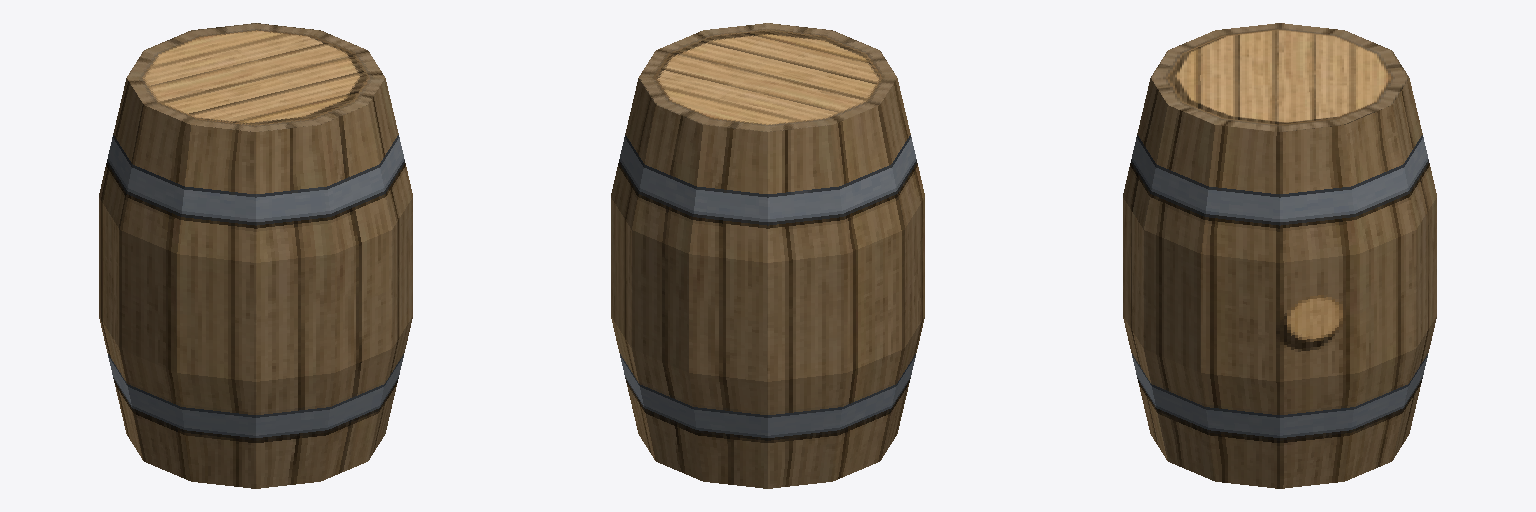
3 views of the same model, side by side, from view 1: azimuth 30°, elevation 25°; view 2: azimuth 150°, elevation 25°; view 3: azimuth 270°, elevation 25° (orthographic).
Parts seen in each view (by area): view 1: Default; view 2: Default; view 3: Default.
Boxes of the visible parts, <box> form: Default: <box>99,23,412,488</box>; Default: <box>611,23,924,488</box>; Default: <box>1123,23,1436,488</box>.
Size of the model in its own units: 2 by 2.5 by 2.
Materials: 1 (1 with a texture image).